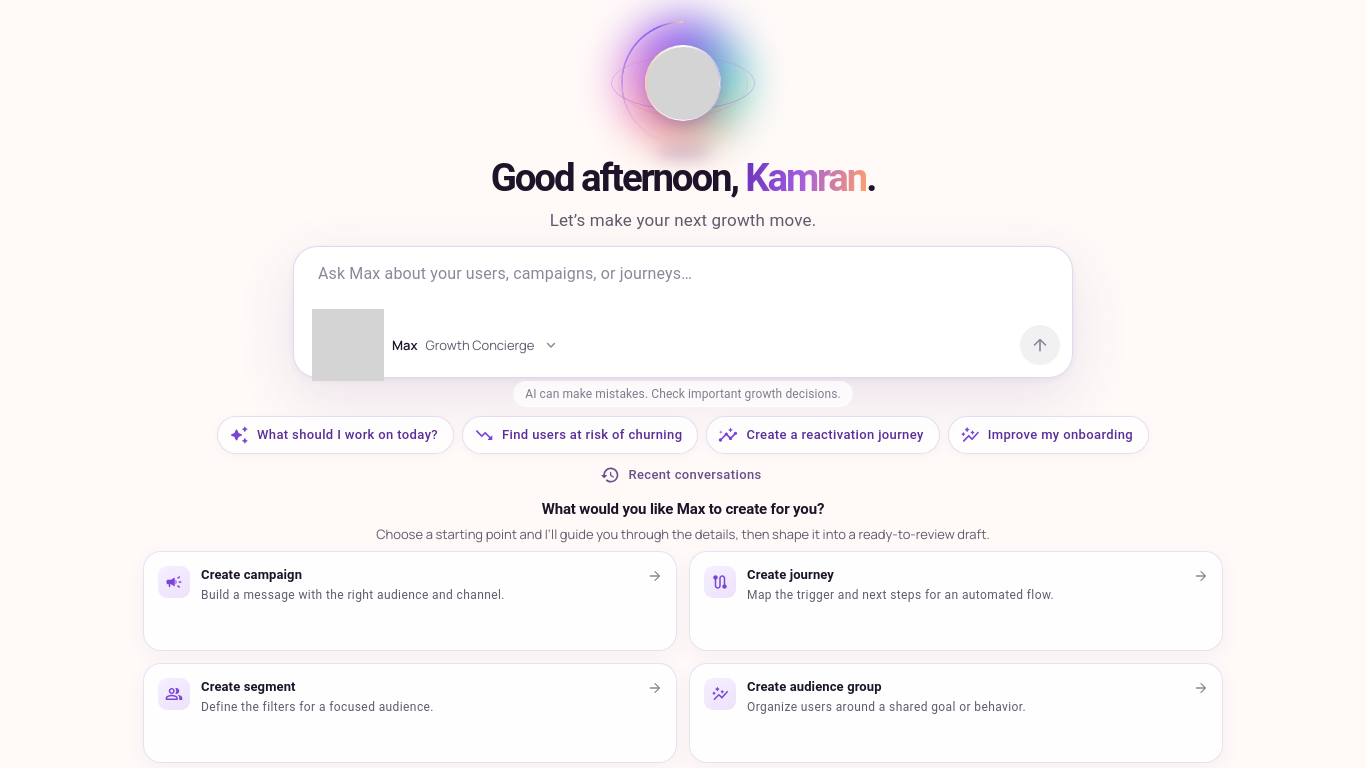
Scenario: Home chat › deletes a conversation after confirmation
Click the button "Recent conversations": (683, 475) top-left (594, 460), bottom-right (772, 490)
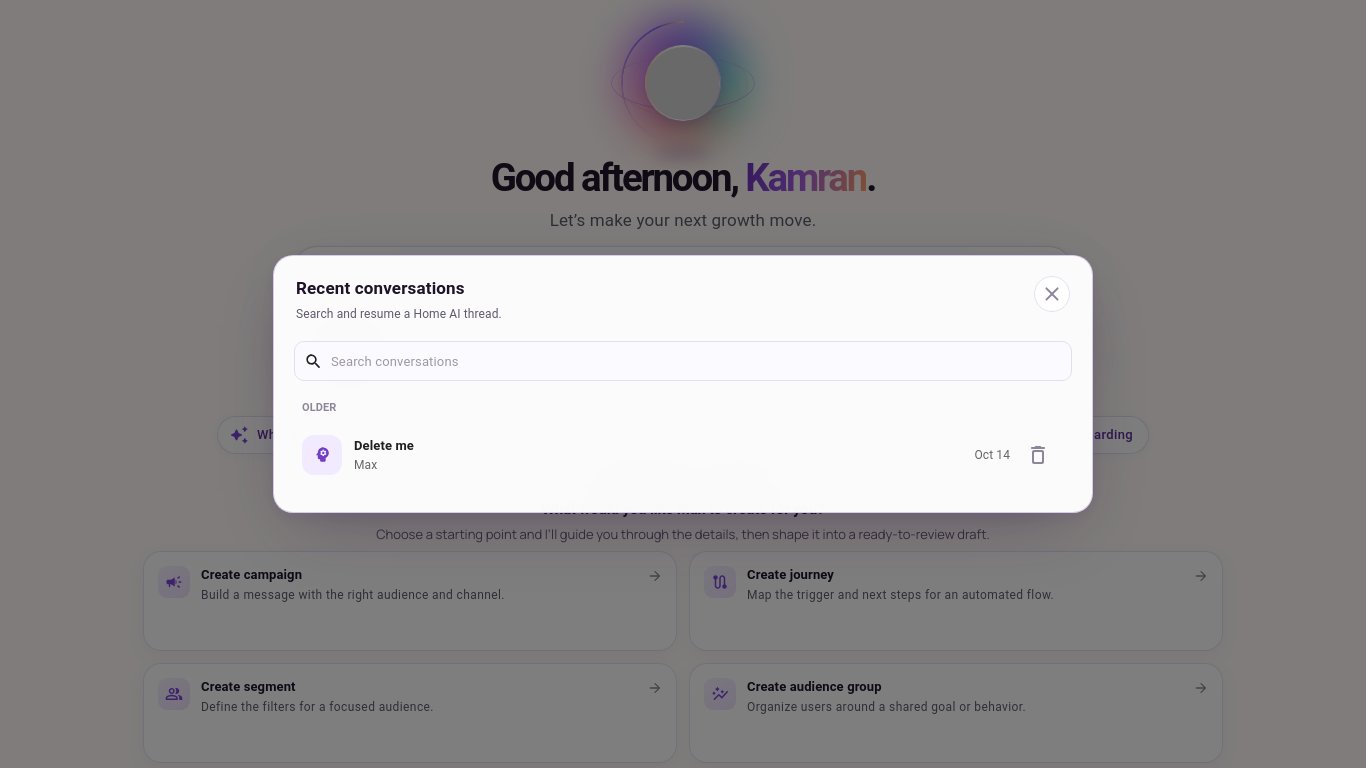
Click the button named "Delete conversation Delete me": (1038, 455) top-left (1022, 439), bottom-right (1054, 471)
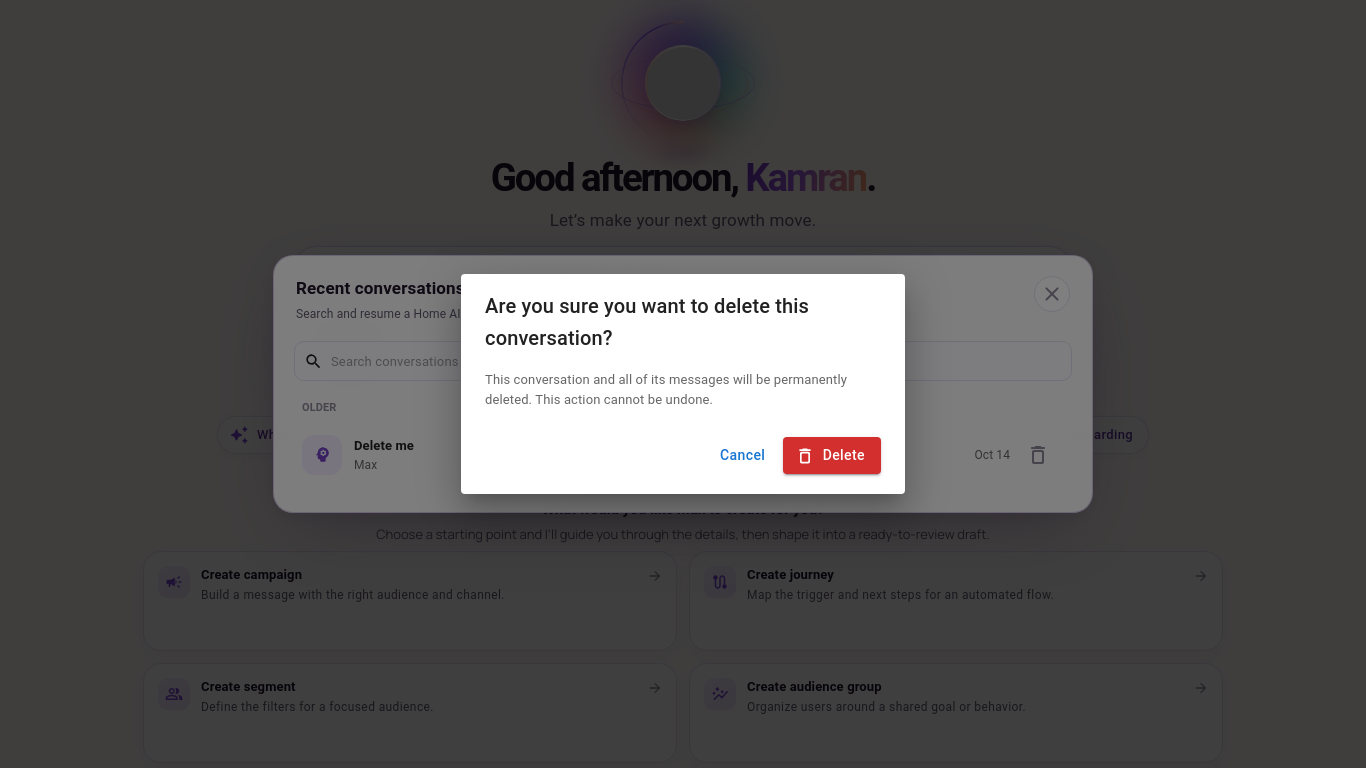
Now the heading "Are you sure you want to delete this conversation?" is shown, box top-left (485, 294), bottom-right (809, 350)
Click the button "Delete": (832, 456) top-left (783, 437), bottom-right (881, 474)
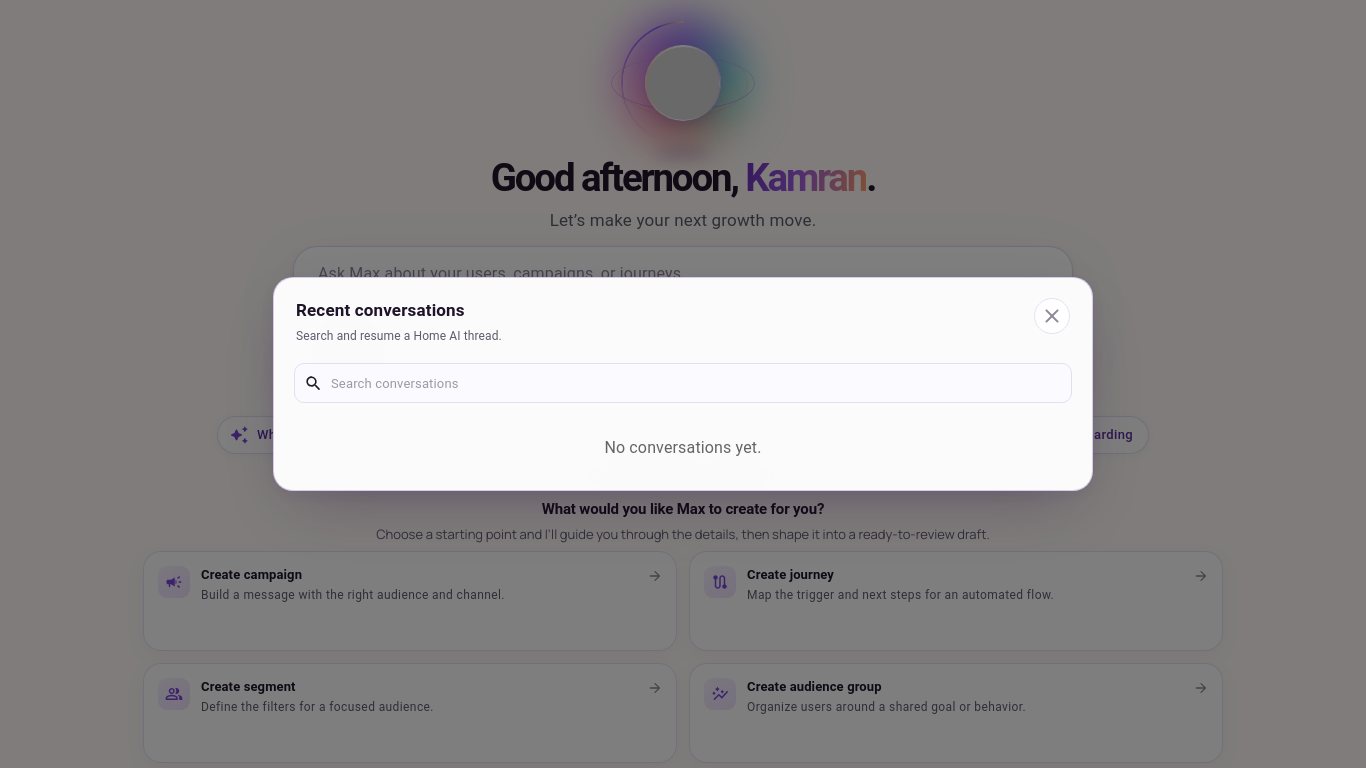
Now the button "Delete me" is gone
